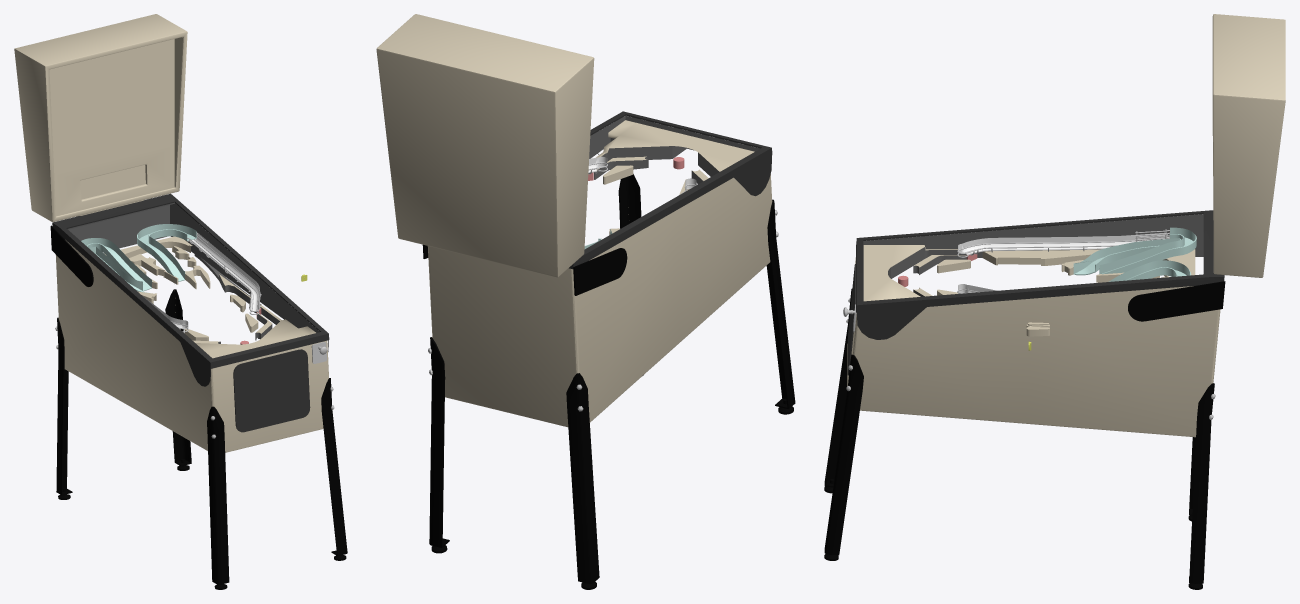
The model's file is pinball.glb.
3 renders of one model, left to right at view 1: azimuth 30°, elevation 25°; view 2: azimuth 150°, elevation 25°; view 3: azimuth 270°, elevation 25°, orthographic. The views are drawn at different scales.
Visible parts, largest first — view 1: case, pied, case_black, Rectangle002, border, ramps1, plateau_top, wall_2, ramps2_c, ramps1_c, fixation, wall (+1 smaller); view 2: case, pied, case_black, plateau_top, fixation, wall, border; view 3: case, case_black, pied, border, plateau_top, ramps1, fixation, ramps2_c, ramps1_c, wall_2, ramps2, wall.
Boxes of the visible parts, x1=… form: case: x1=14, y1=14, x2=328, y2=452; pied: x1=56, y1=289, x2=347, y2=589; case_black: x1=52, y1=193, x2=329, y2=386; Rectangle002: x1=233, y1=349, x2=310, y2=432; border: x1=67, y1=202, x2=319, y2=332; ramps1: x1=82, y1=225, x2=196, y2=292; plateau_top: x1=105, y1=236, x2=315, y2=358; wall_2: x1=124, y1=241, x2=258, y2=340; ramps2_c: x1=143, y1=233, x2=259, y2=329; ramps1_c: x1=81, y1=224, x2=196, y2=290; fixation: x1=50, y1=225, x2=93, y2=286; wall: x1=194, y1=253, x2=279, y2=343; case: x1=376, y1=14, x2=772, y2=427; pied: x1=429, y1=174, x2=795, y2=589; case_black: x1=569, y1=111, x2=772, y2=269; plateau_top: x1=596, y1=120, x2=754, y2=232; fixation: x1=422, y1=244, x2=627, y2=295; wall: x1=594, y1=138, x2=719, y2=184; border: x1=589, y1=115, x2=759, y2=158; case: x1=847, y1=14, x2=1285, y2=437; case_black: x1=856, y1=210, x2=1224, y2=339; pied: x1=824, y1=289, x2=1214, y2=589; border: x1=863, y1=214, x2=1203, y2=300; plateau_top: x1=863, y1=245, x2=1195, y2=301; ramps1: x1=1073, y1=229, x2=1196, y2=280; fixation: x1=1128, y1=281, x2=1225, y2=321; ramps2_c: x1=958, y1=232, x2=1169, y2=293; ramps1_c: x1=1073, y1=227, x2=1195, y2=281; wall_2: x1=937, y1=251, x2=1169, y2=295; ramps2: x1=957, y1=229, x2=1169, y2=293; wall: x1=888, y1=247, x2=982, y2=296.
Size of the model in its own units: 8.42 by 18.88 by 15.8.
